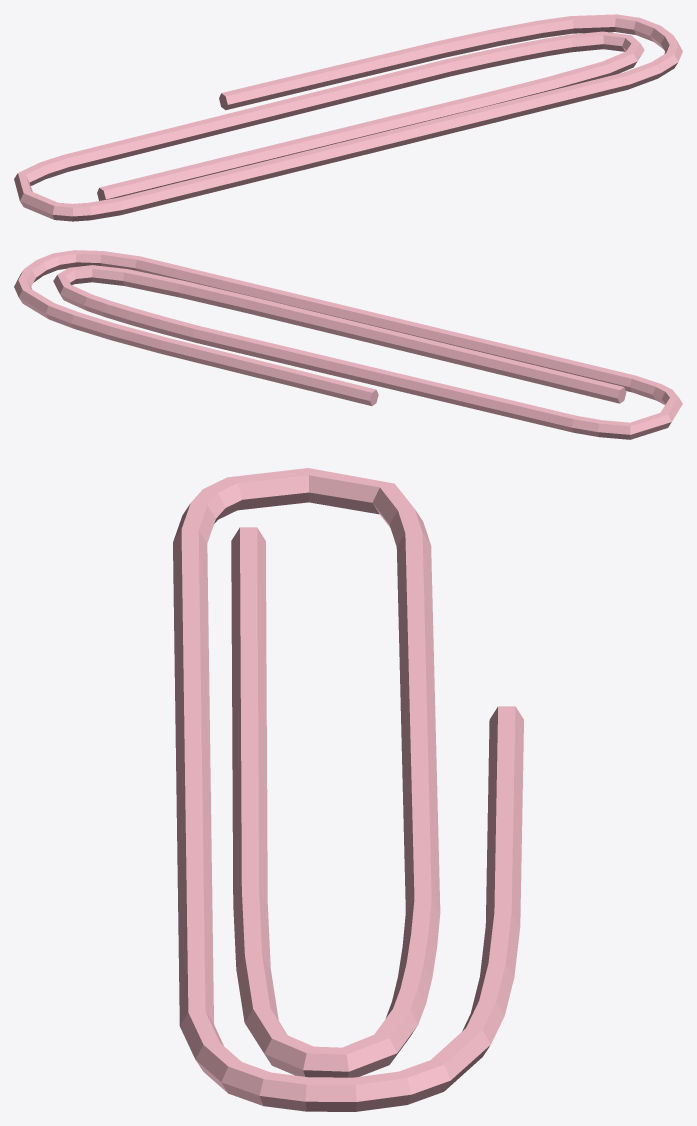
File: clip.fbx
3 views of the same model, one above another, from view 1: azimuth 30°, elevation 25°; view 2: azimuth 150°, elevation 25°; view 3: azimuth 270°, elevation 25° (orthographic). The views are drawn at different scales.
Visible parts, largest first — view 1: NurbsPath; view 2: NurbsPath; view 3: NurbsPath.
Part boxes in pixels (box(x1,y1,x2,y2)): NurbsPath: box(14, 14, 682, 221); NurbsPath: box(14, 250, 682, 439); NurbsPath: box(173, 468, 523, 1111).
Size of the model in its own units: 117 by 2.38 by 27.9.
